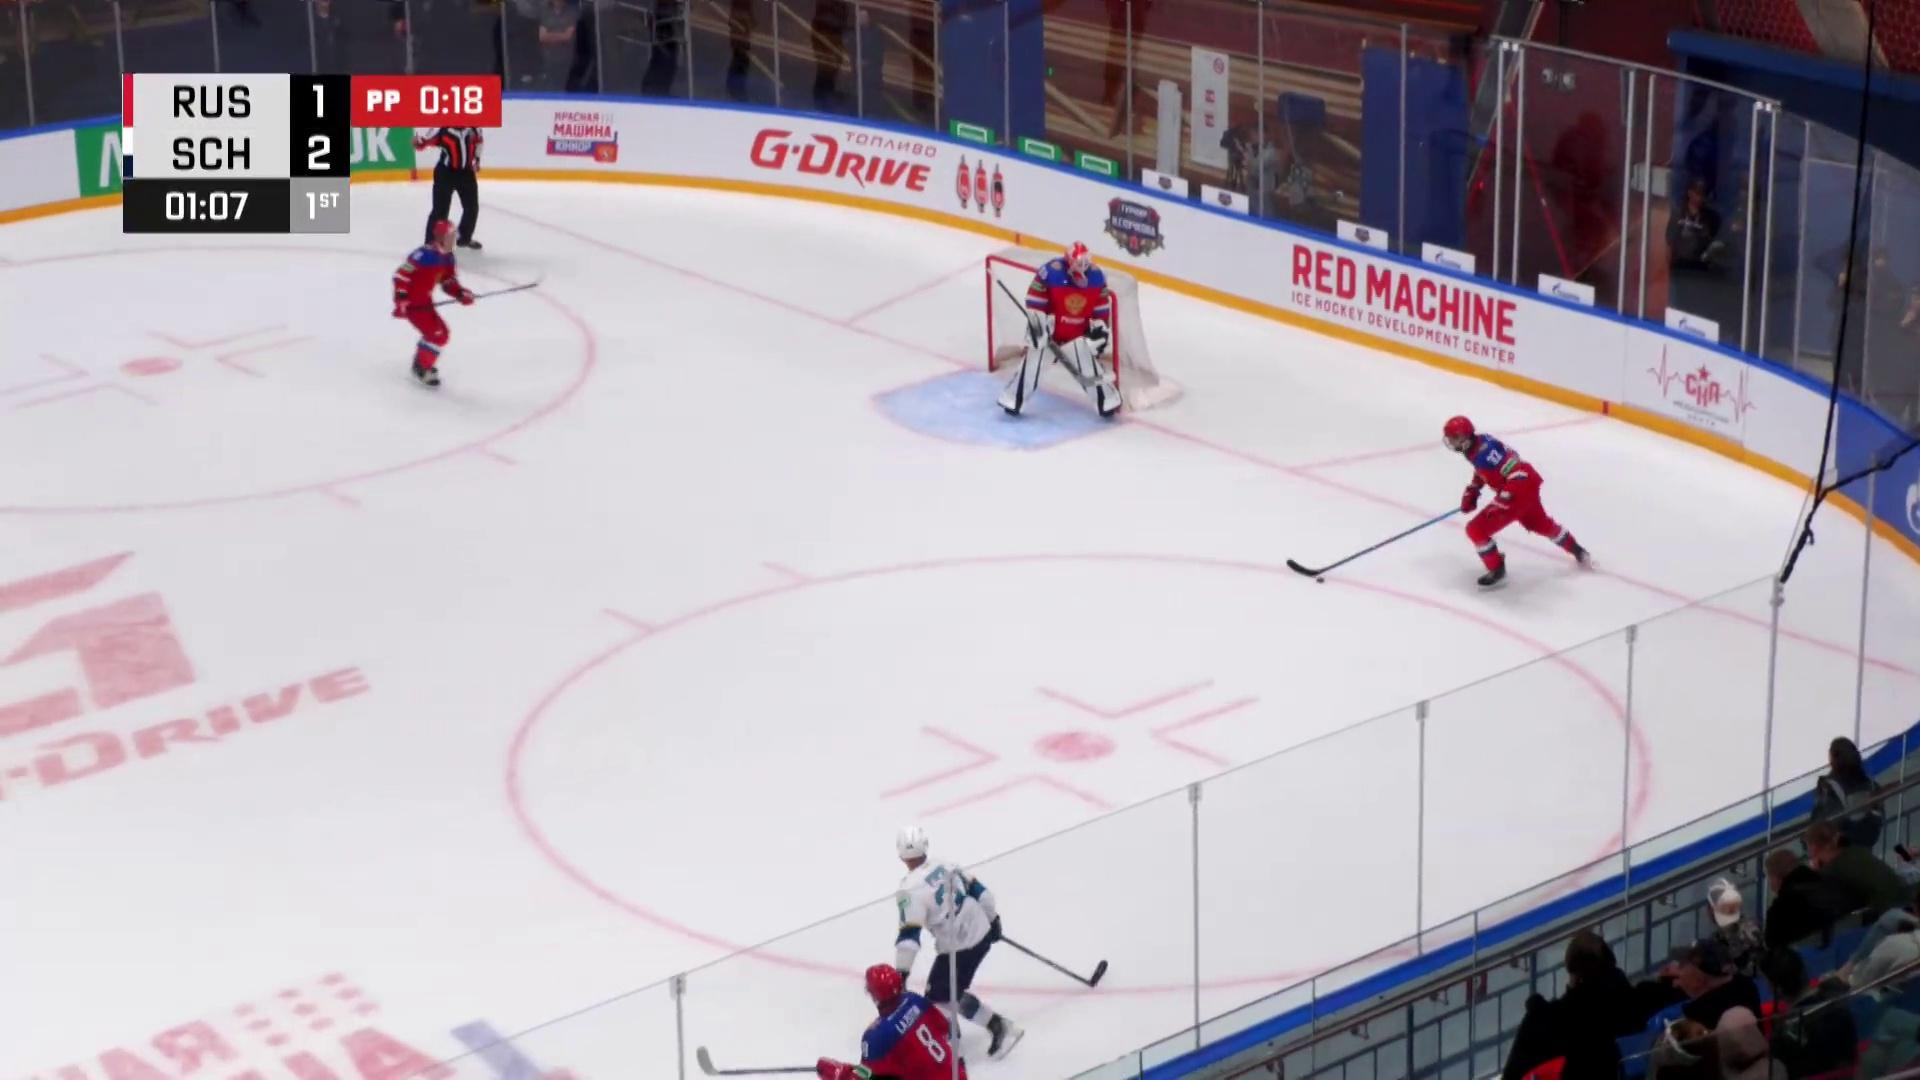ball: (1316, 578, 1327, 584)
